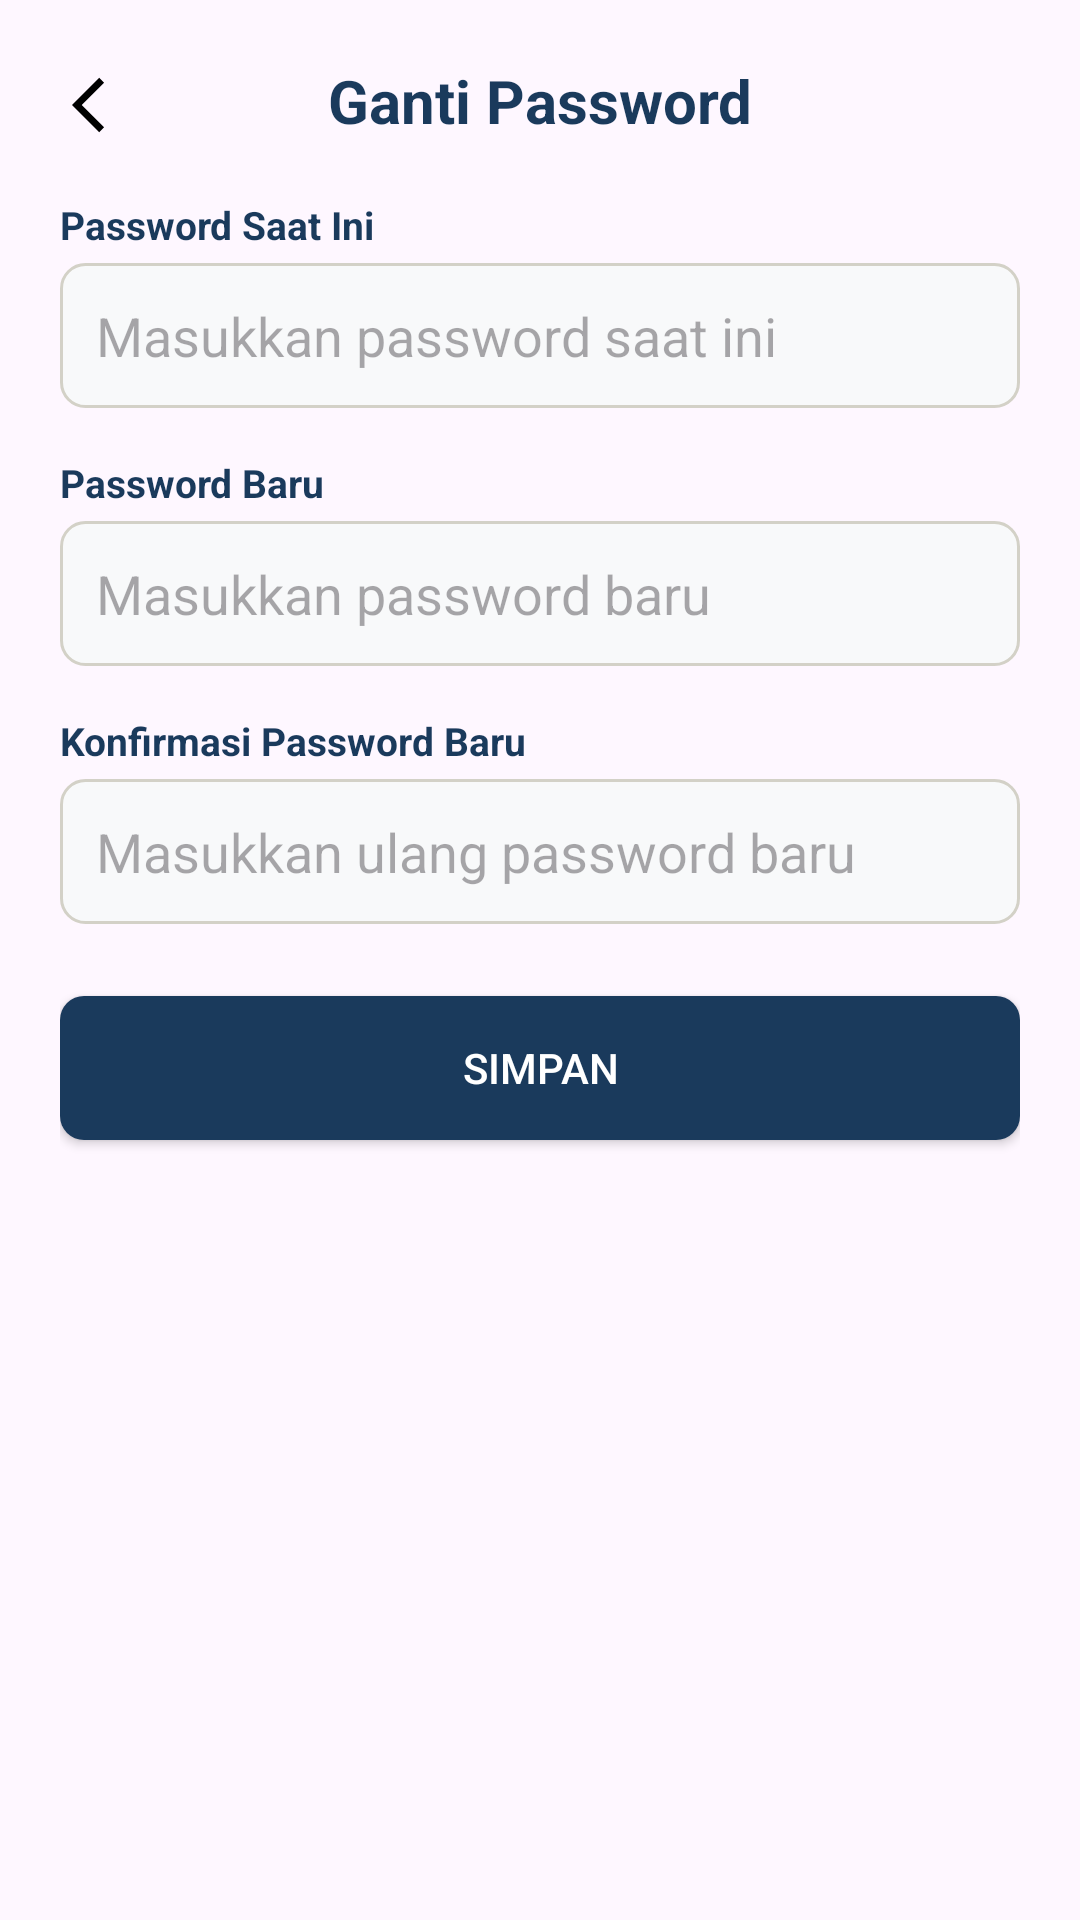

Locate icon controls on the screen. Image size 1080x1920, boxes as [x1, y1, x2, y2].
Kembali: [72, 78, 104, 132]
